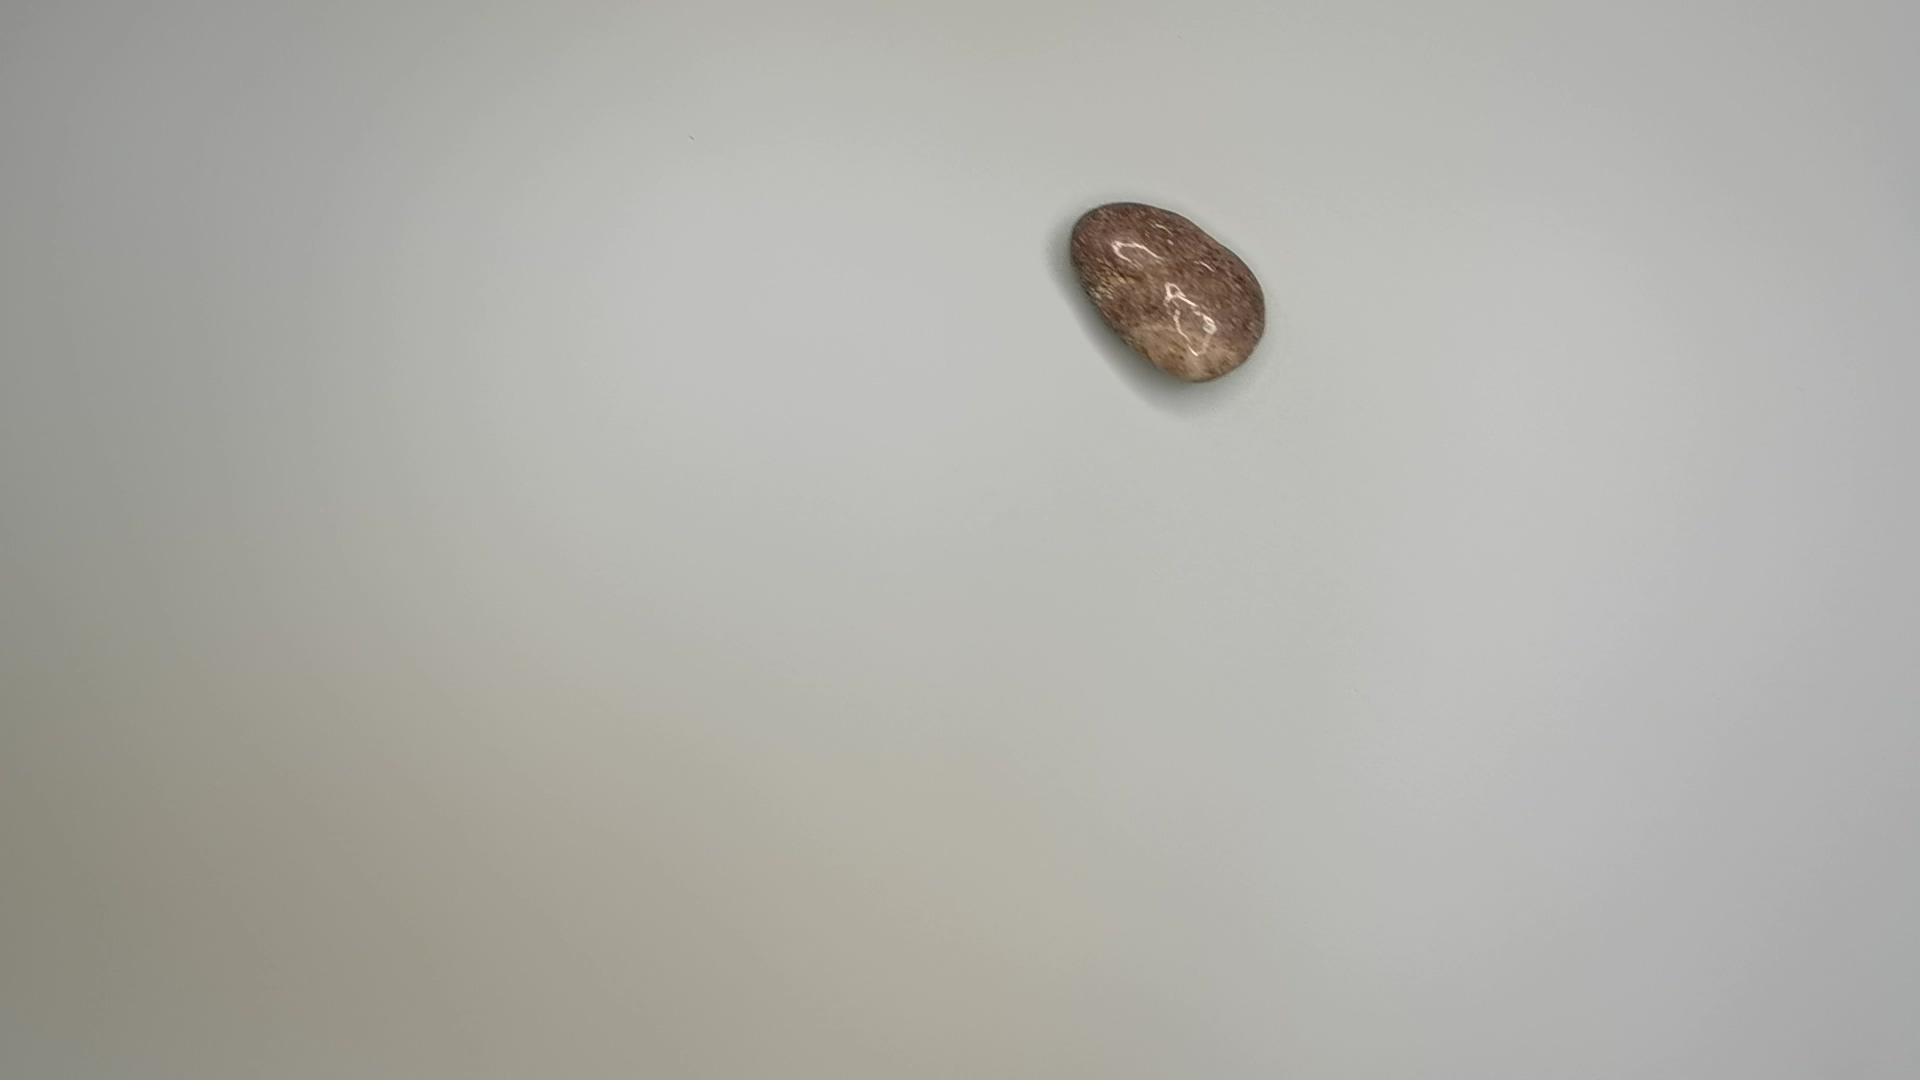ceramic: (1069, 198, 1286, 393)
